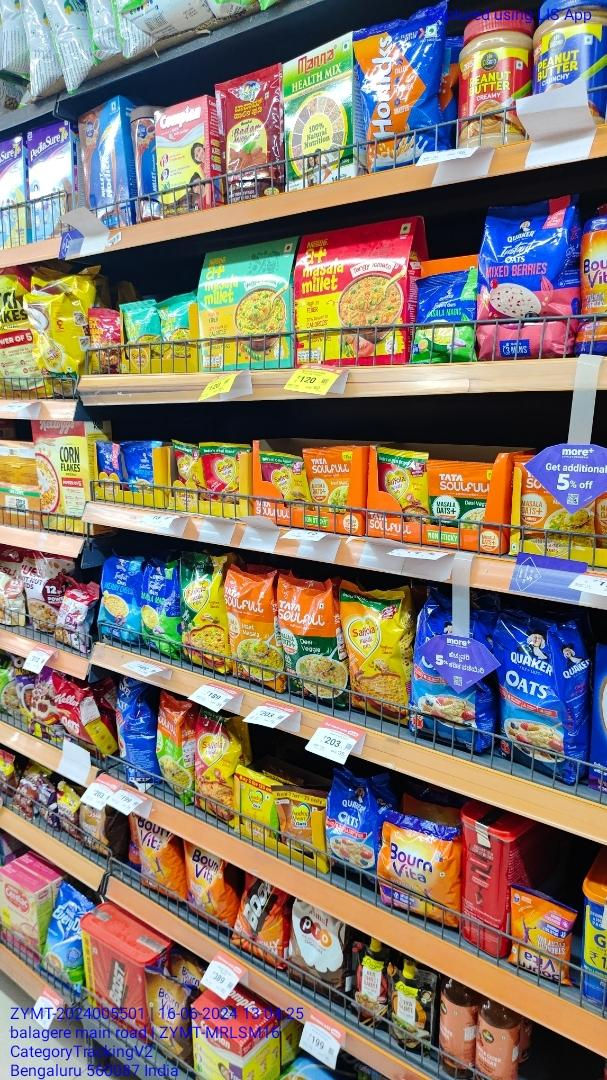PEDIASURE_7_PLUS_CHOCOLATE_400_G_PACK: (27, 120, 73, 241)
